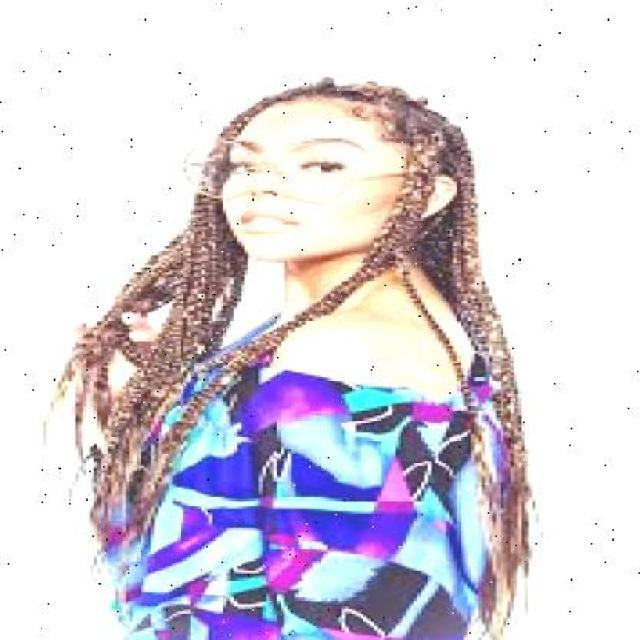glasses: (166, 134, 380, 206)
